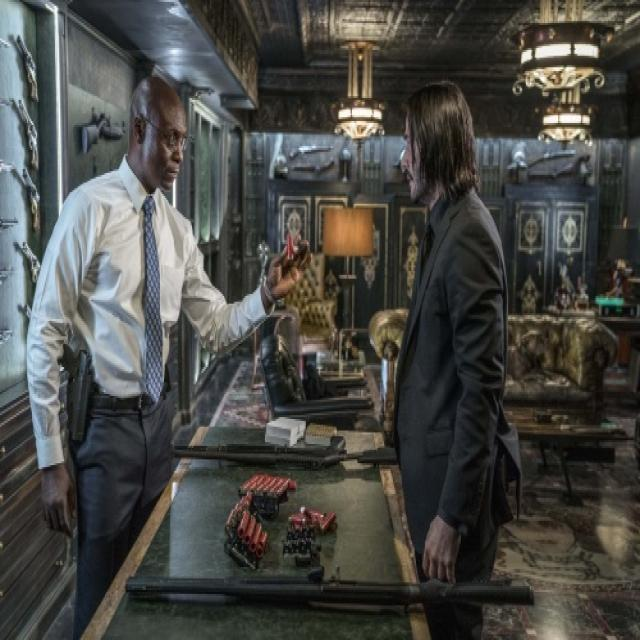rifle: (116, 565, 547, 614), (172, 429, 404, 485)
